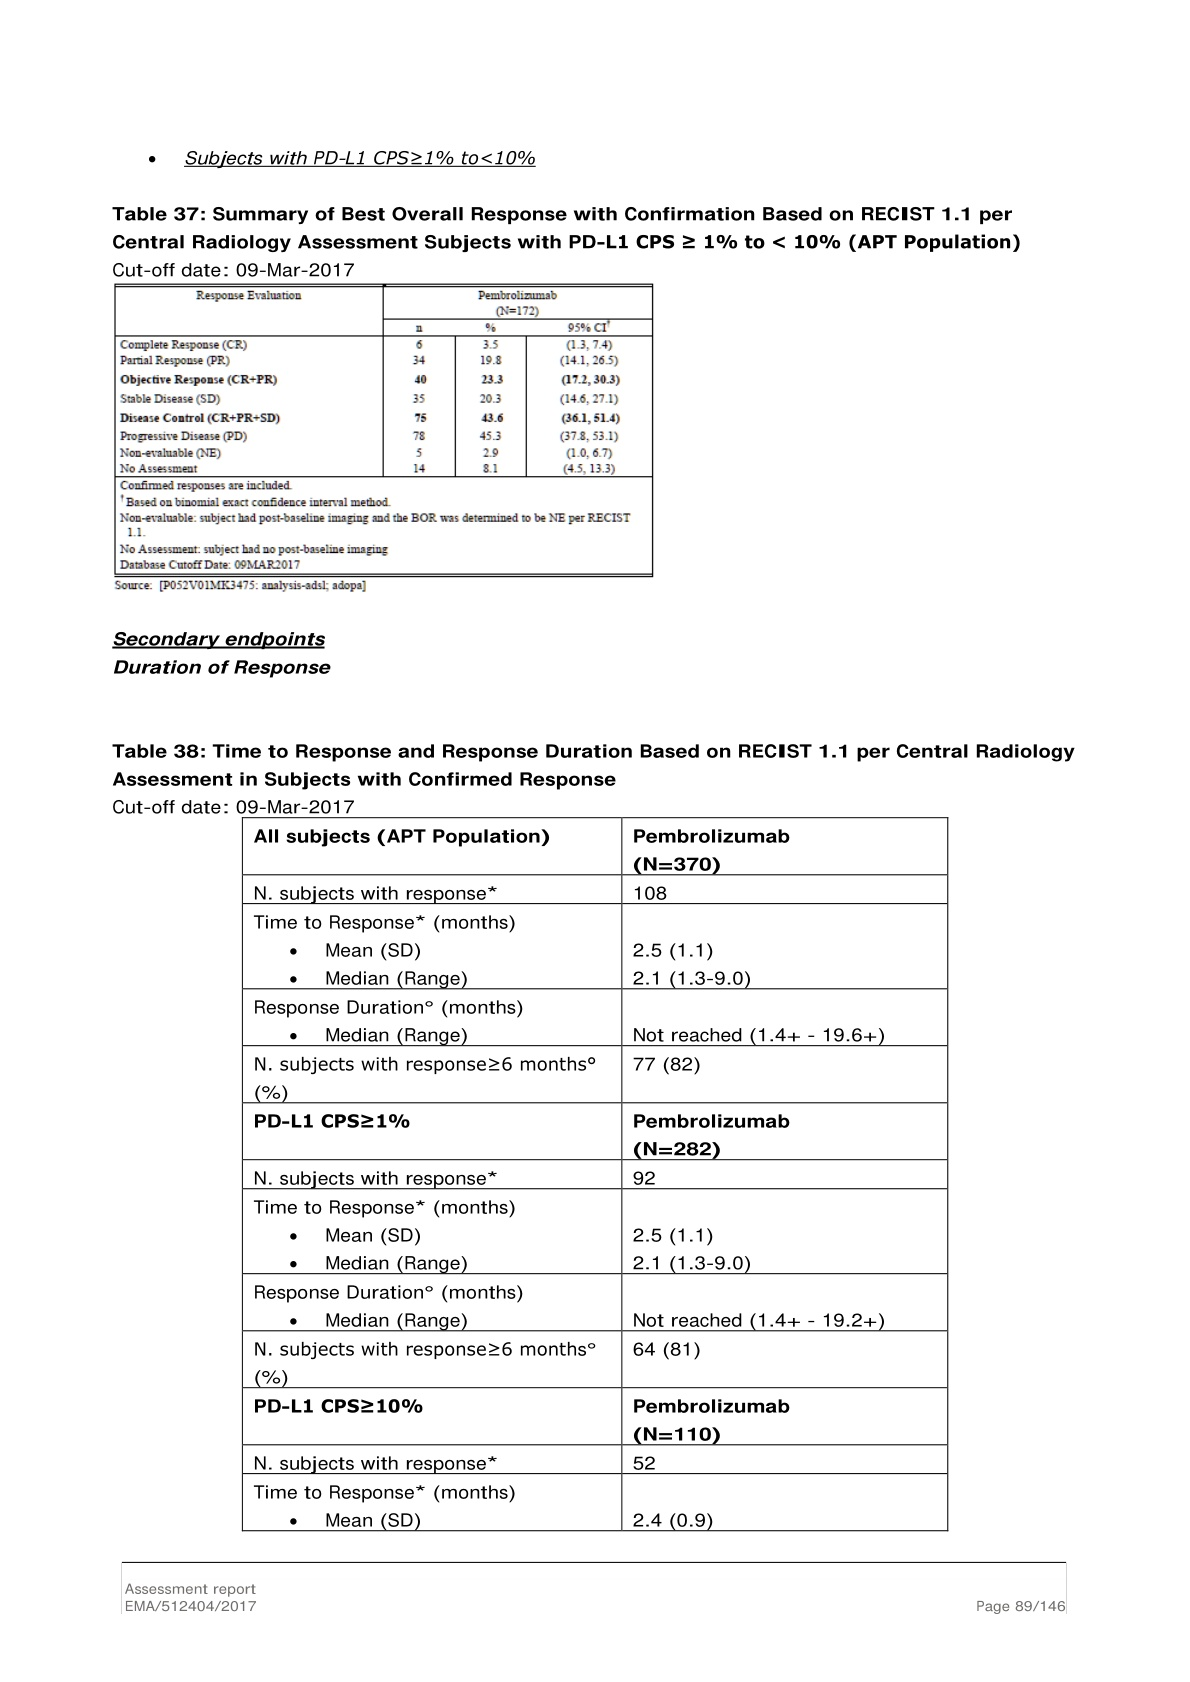full_lined: (240, 817, 950, 1533)
merged_cells: (115, 282, 654, 578)
